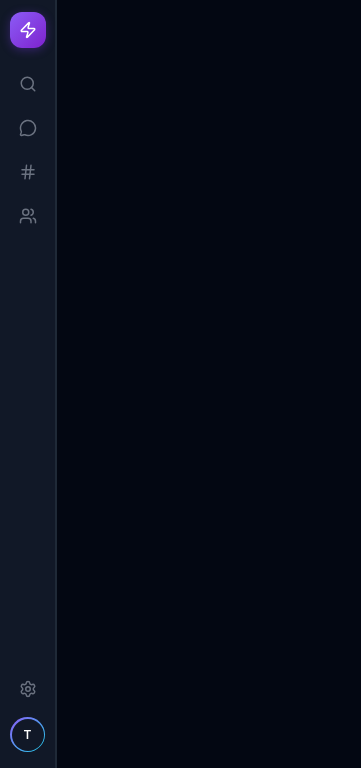
Test case: Sidebar — Messages panel scoped search › shows a search input when the Messages panel is open
This screenshot has width=361, height=768.
Click the button named "Messages".
click(28, 128)  # box [8, 108, 48, 148]
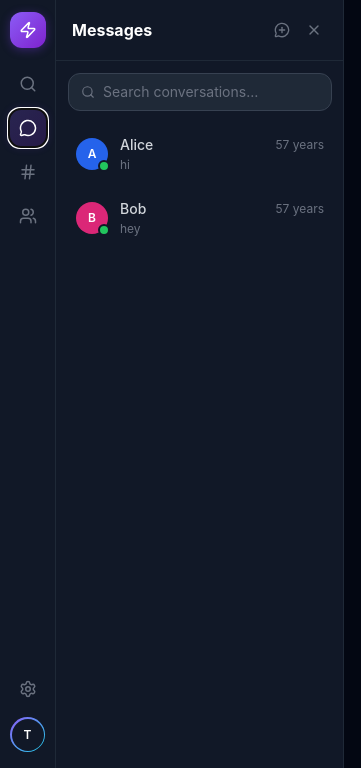
Expected: the field with placeholder "Search conversations…" is shown, [103, 82, 319, 102]
